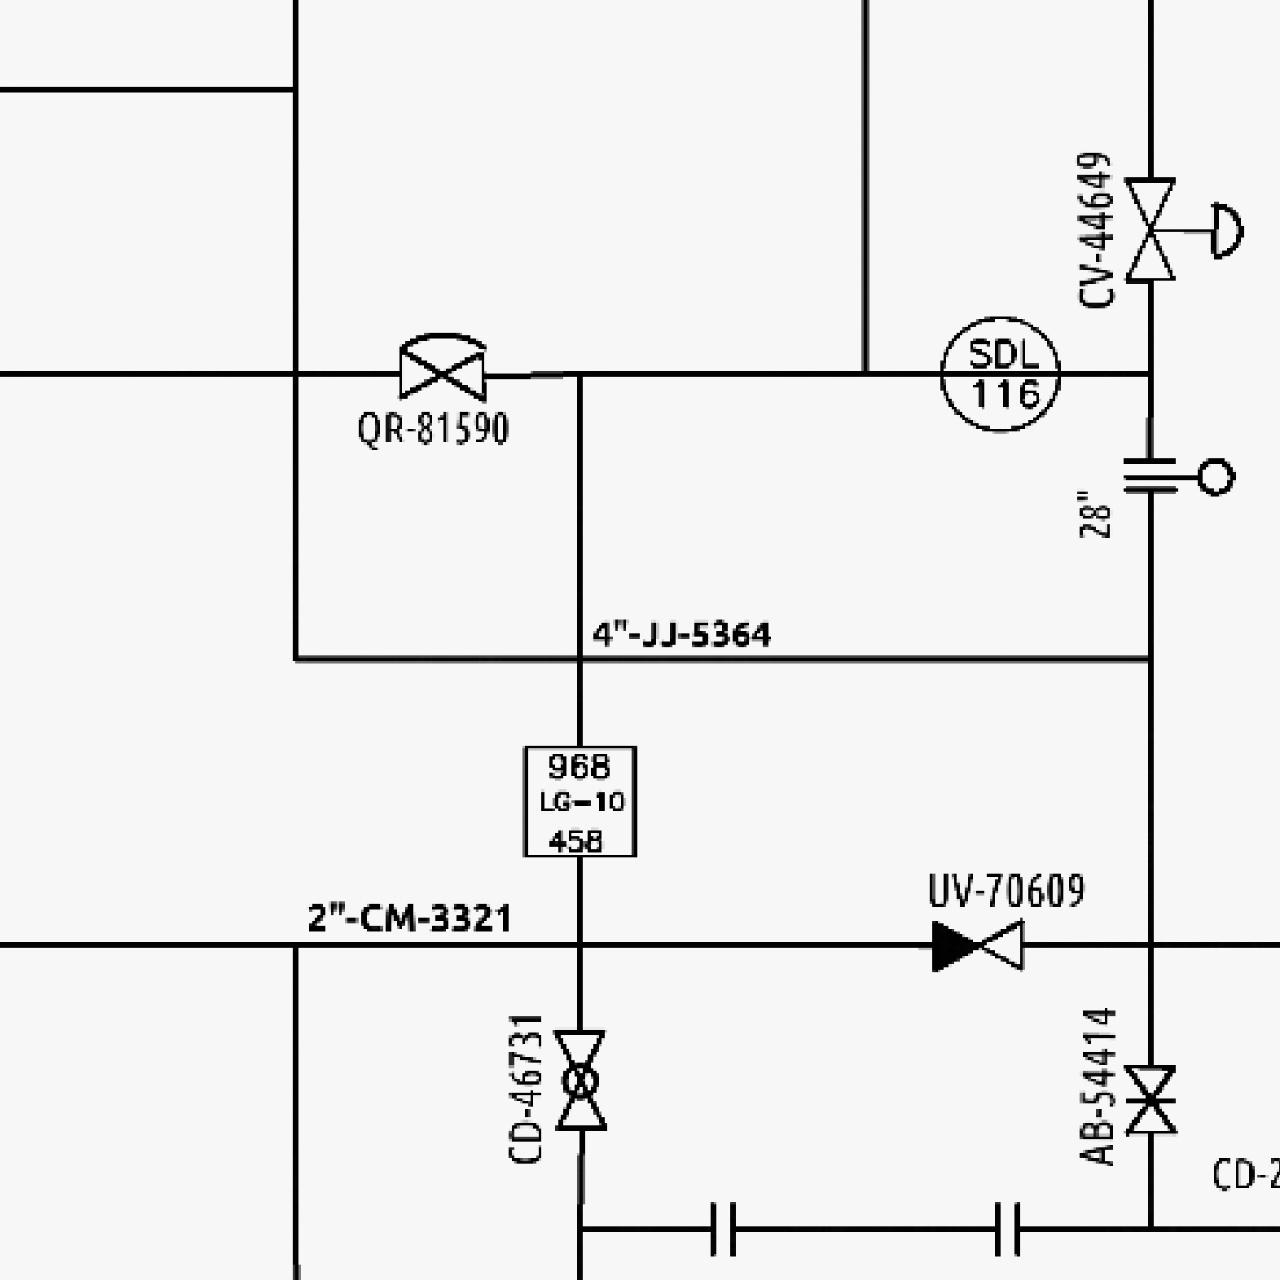Half closed valve: (928, 914, 1027, 975)
